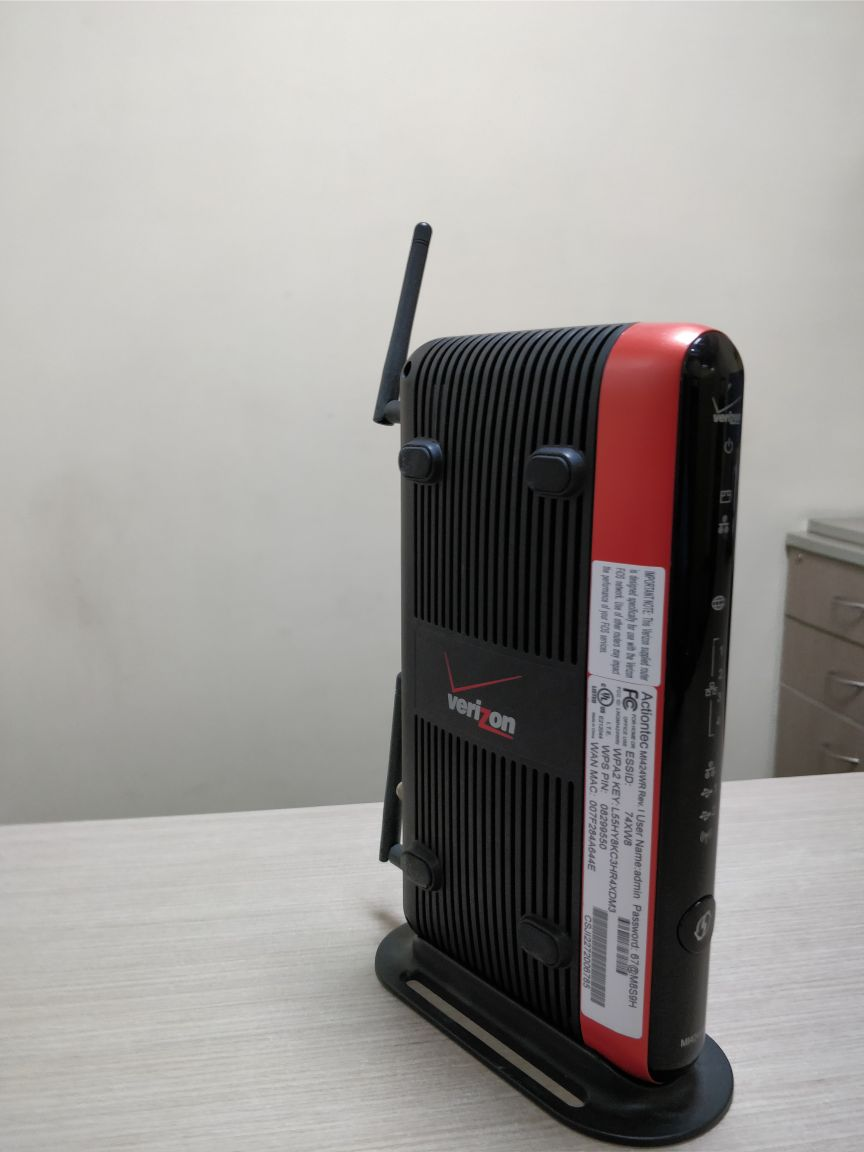Verizon Router: (340, 205, 827, 1152)
